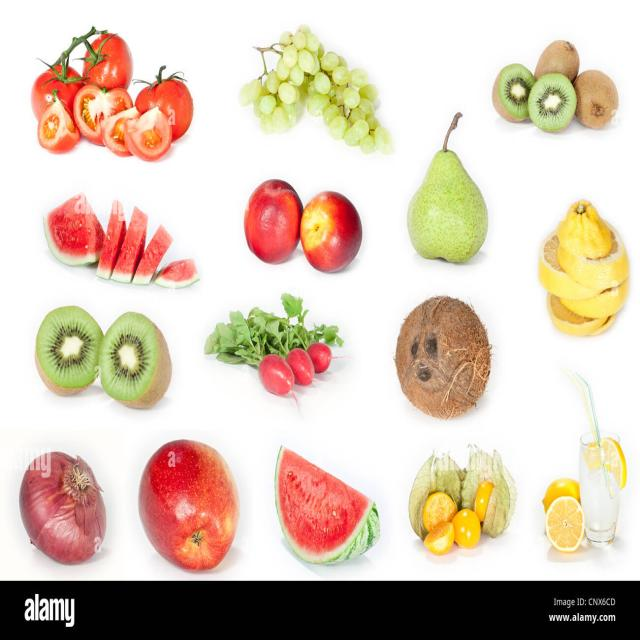Apple: (302, 193, 364, 271), (246, 180, 300, 261)
Coconut: (394, 295, 494, 416)
Grapes: (244, 27, 400, 153)
Kiwi: (39, 309, 170, 406), (576, 67, 619, 132), (530, 76, 576, 130), (493, 63, 533, 116), (533, 37, 580, 78)
Orange: (534, 193, 633, 344)
Pear: (409, 115, 488, 263)
Tomato: (32, 65, 78, 158), (139, 70, 194, 140), (83, 33, 142, 88), (74, 86, 128, 136), (126, 110, 172, 156)
Watermelon: (34, 197, 202, 284)
